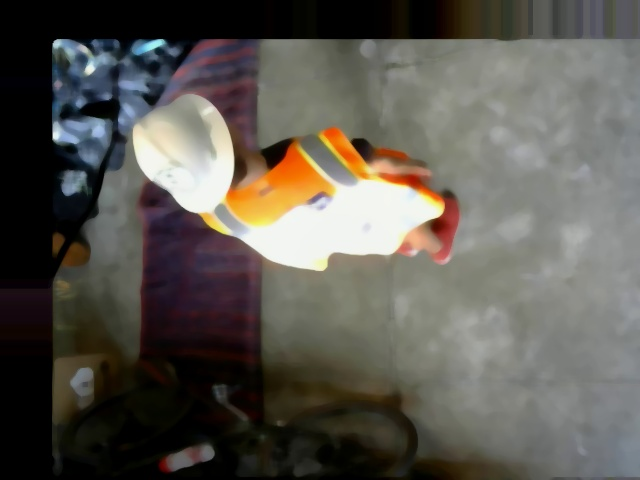three: (155, 163, 196, 194)
